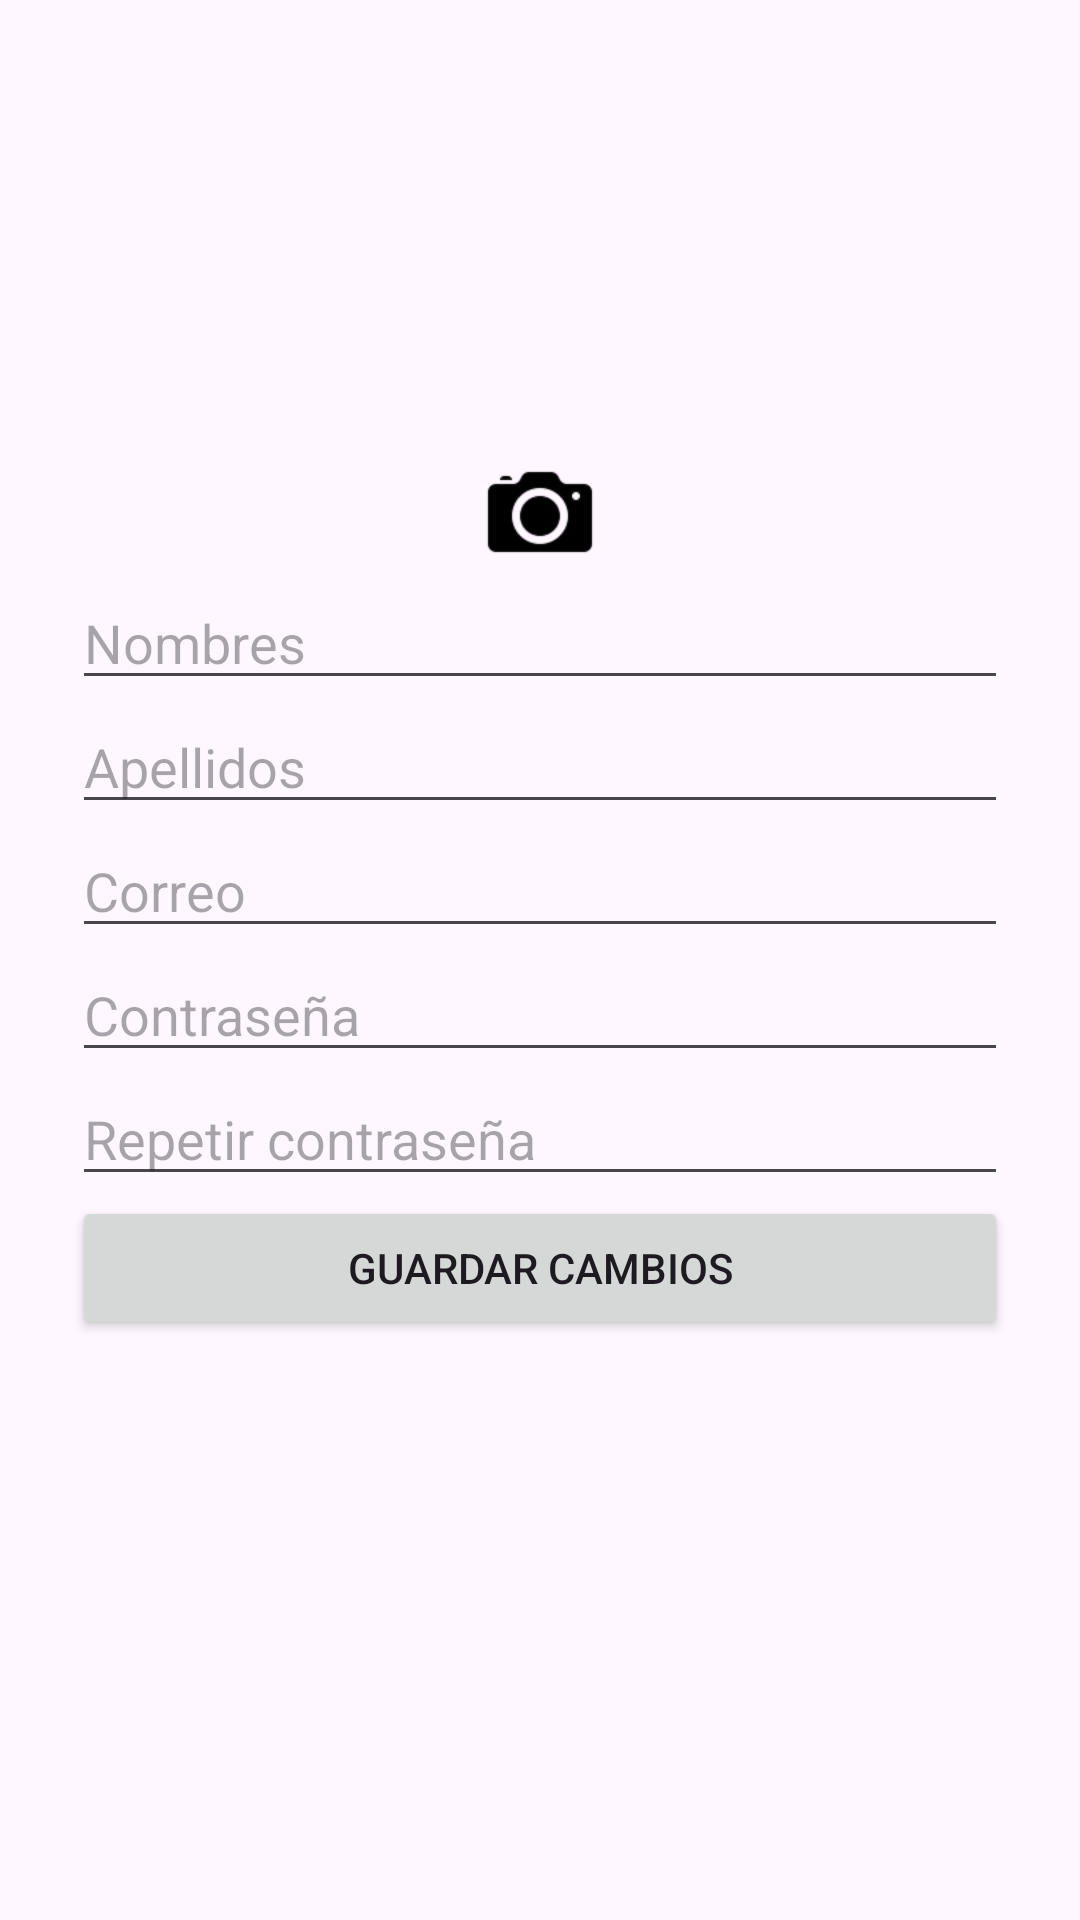

Icons on this 1080x1920 Android screen, each with the point to tap as (x=x, y=y):
camara: (x=540, y=512)
